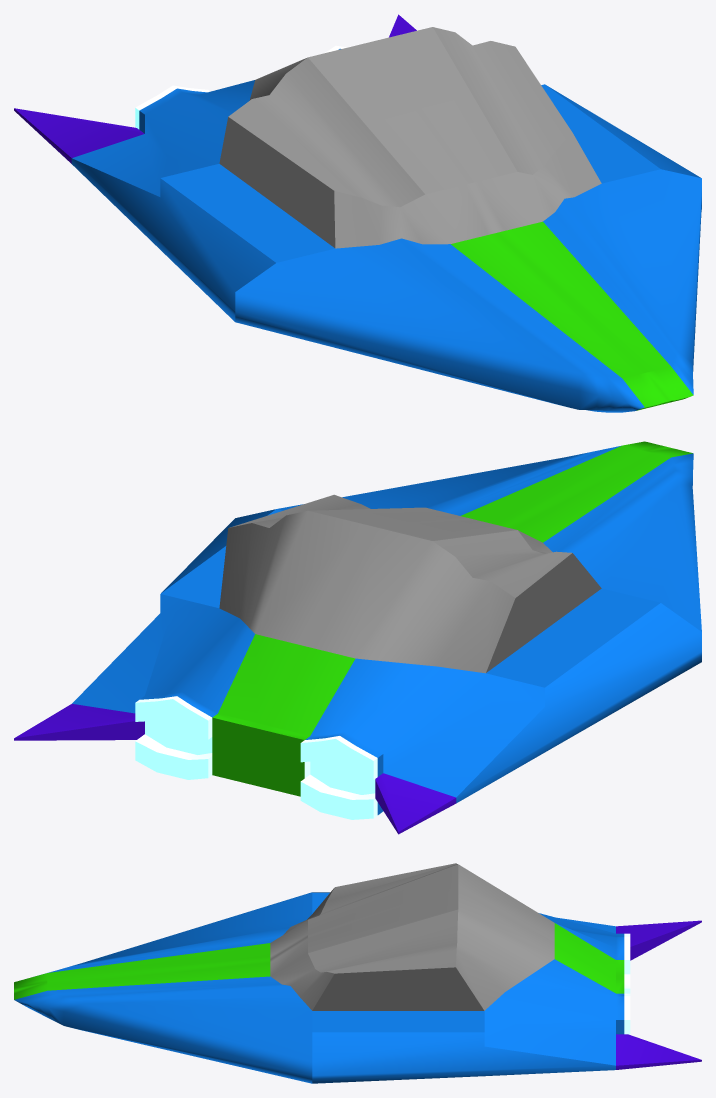
File: Racecarwithmatslots.fbx
3 views of the same model, one above another, from view 1: azimuth 30°, elevation 25°; view 2: azimuth 150°, elevation 25°; view 3: azimuth 270°, elevation 25° (orthographic). The views are drawn at different scales.
Parts seen in each view (by area): view 1: NeoathRawCar; view 2: NeoathRawCar; view 3: NeoathRawCar.
Part boxes in pixels (<box>): NeoathRawCar: <box>14,14,701,412</box>; NeoathRawCar: <box>14,441,701,834</box>; NeoathRawCar: <box>14,863,701,1083</box>.
Size of the model in its own units: 3487 by 1324 by 5991.
